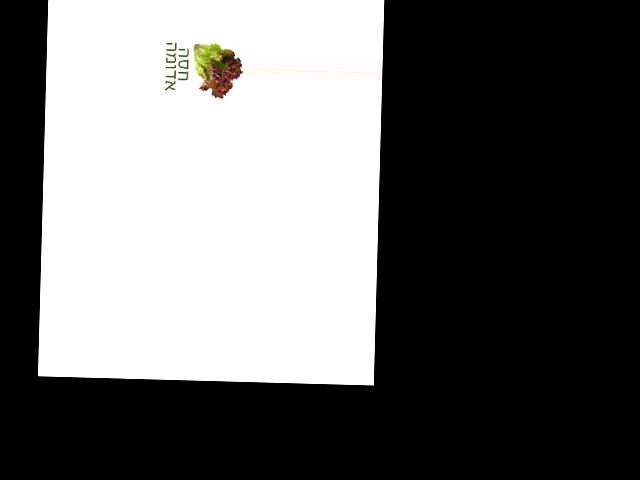lettuce: (190, 37, 243, 100)
